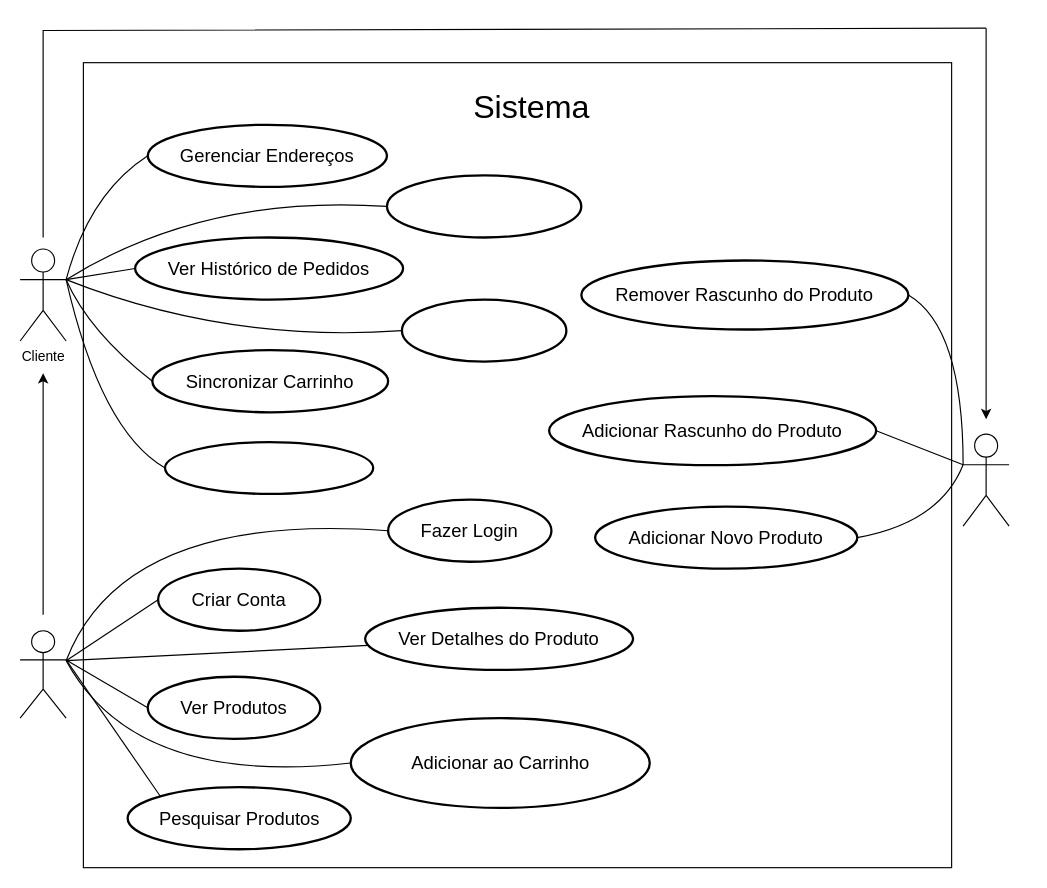
The diagram is 1047 pixels wide and 888 high, and some of its shapes have lost their labels. The centre of each missing label's shape, as x and y in pixels:
"Avaliar Produto" goes at pixel 483 206.
"Finalizar Compra" goes at pixel 268 467.
"Fornecedor" goes at pixel 985 479.
"Salvar Itens" goes at pixel 483 330.
"Usuário" goes at pixel 42 674.
